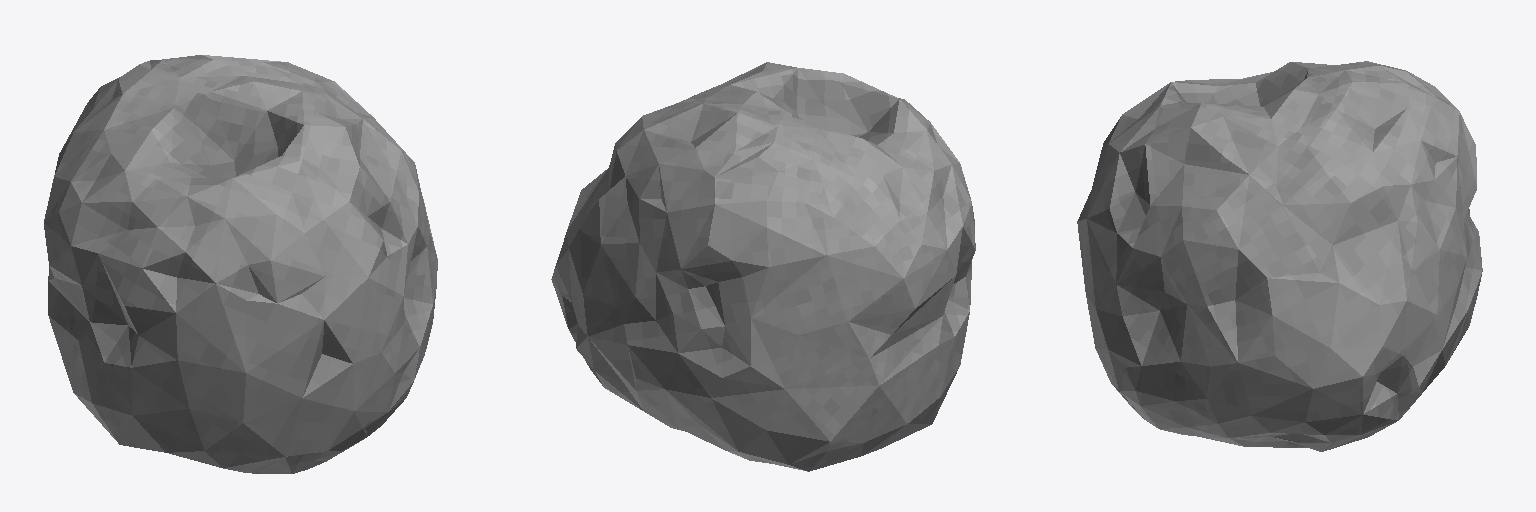
3 views of the same model, side by side, from view 1: azimuth 30°, elevation 25°; view 2: azimuth 150°, elevation 25°; view 3: azimuth 270°, elevation 25° (orthographic).
Parts seen in each view (by area): view 1: Sphere_Sphere.001; view 2: Sphere_Sphere.001; view 3: Sphere_Sphere.001.
Boxes of the visible parts, x1=… form: Sphere_Sphere.001: x1=44, y1=55, x2=437, y2=473; Sphere_Sphere.001: x1=551, y1=62, x2=975, y2=471; Sphere_Sphere.001: x1=1077, y1=61, x2=1482, y2=451.
Bounding box in the file's own units: 1.63 × 1.46 × 1.57.
1 materials, 1 textured.